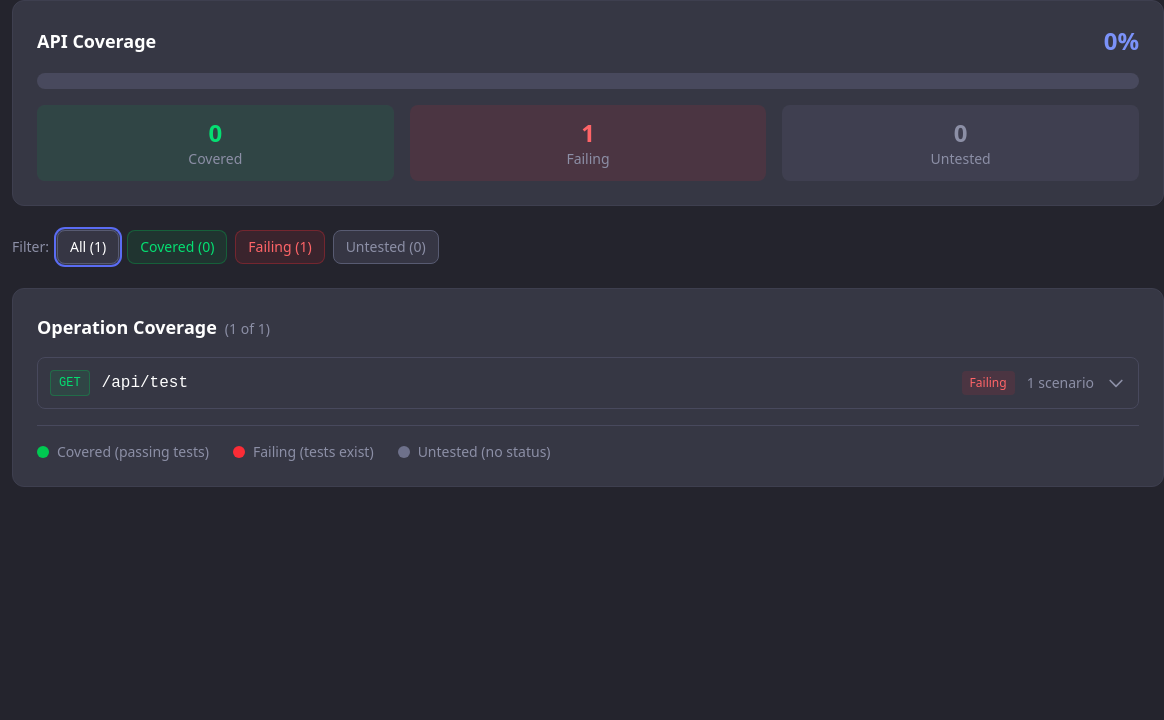
Test: OperationCoverageTable › shows no results message when filter has no matches
Click the button "Covered (0)": (177, 247) [127,230,227,264]
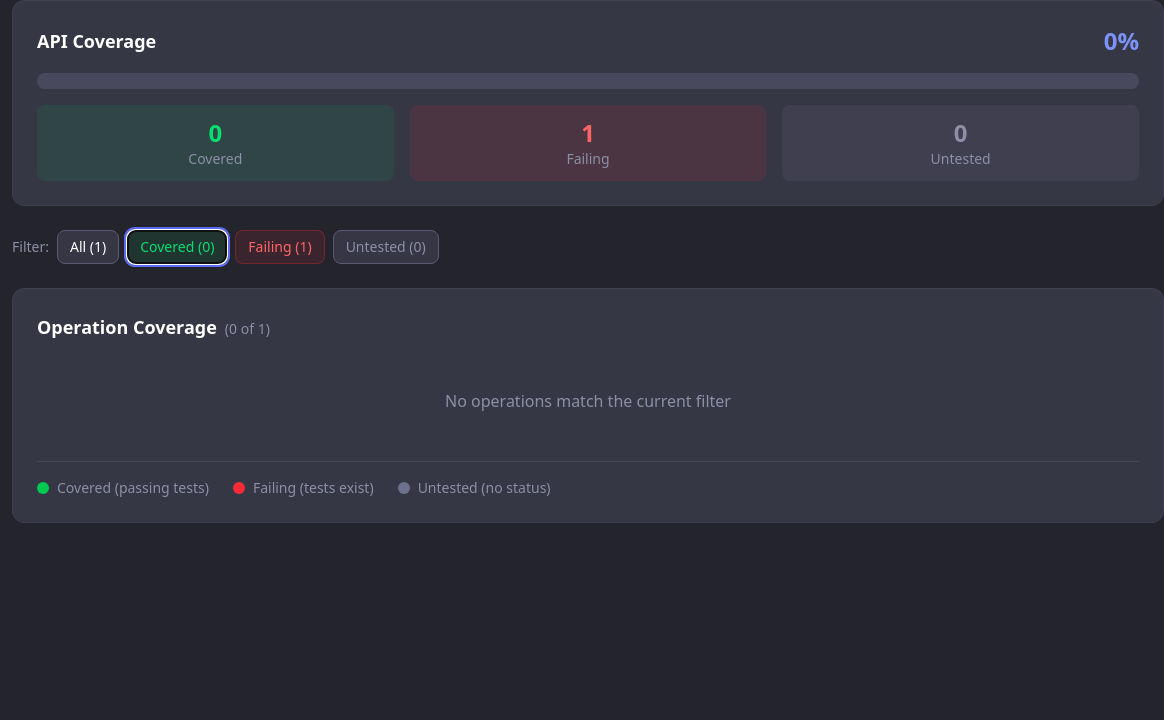
Now the text "No operations match the current filter" is shown, box [445,390,731,412]
